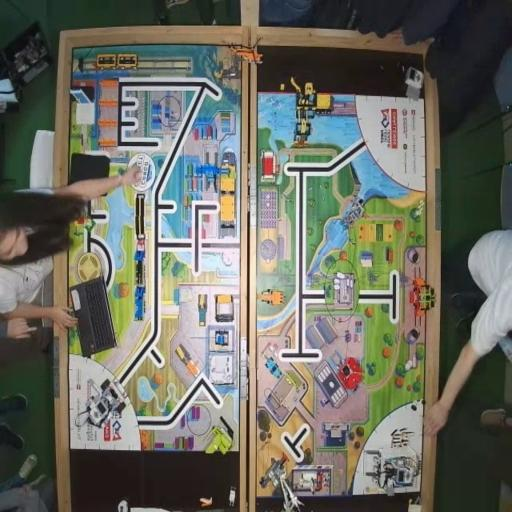lego_robot: (74, 377, 128, 430), (365, 448, 420, 496)
